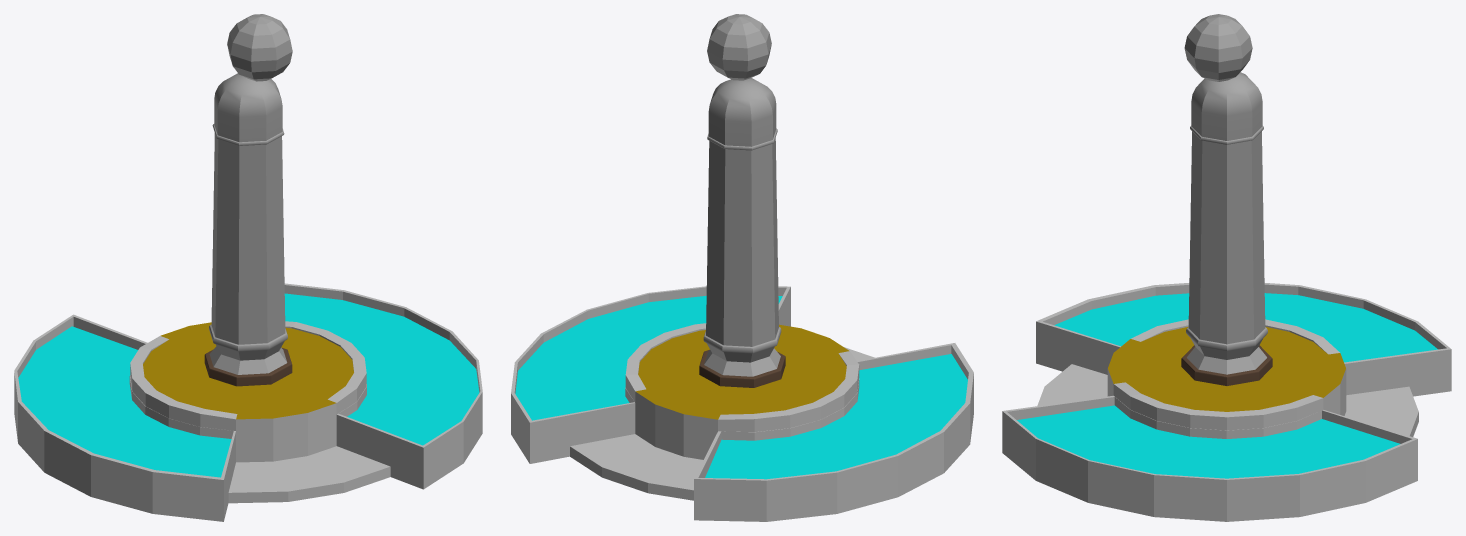
Rendered from Fonte.fbx.
The picture shows the model from 3 angles, left to right: view 1: azimuth 30°, elevation 25°; view 2: azimuth 150°, elevation 25°; view 3: azimuth 270°, elevation 25°; orthographic projection.
Parts seen in each view (by area): view 1: pCylinder12, pCylinder13, pSphere1; view 2: pCylinder12, pCylinder13, pSphere1; view 3: pCylinder12, pCylinder13, pSphere1.
Part boxes in pixels (bbox=[...]): pCylinder12: bbox=[14, 283, 482, 521]; pCylinder13: bbox=[204, 73, 292, 386]; pSphere1: bbox=[227, 14, 292, 81]; pCylinder12: bbox=[511, 286, 973, 521]; pCylinder13: bbox=[699, 78, 785, 387]; pSphere1: bbox=[707, 14, 771, 80]; pCylinder12: bbox=[1002, 283, 1451, 521]; pCylinder13: bbox=[1181, 72, 1272, 385]; pSphere1: bbox=[1184, 14, 1252, 81].
Size of the model in its own units: 10.38 by 9.9 by 9.87.
